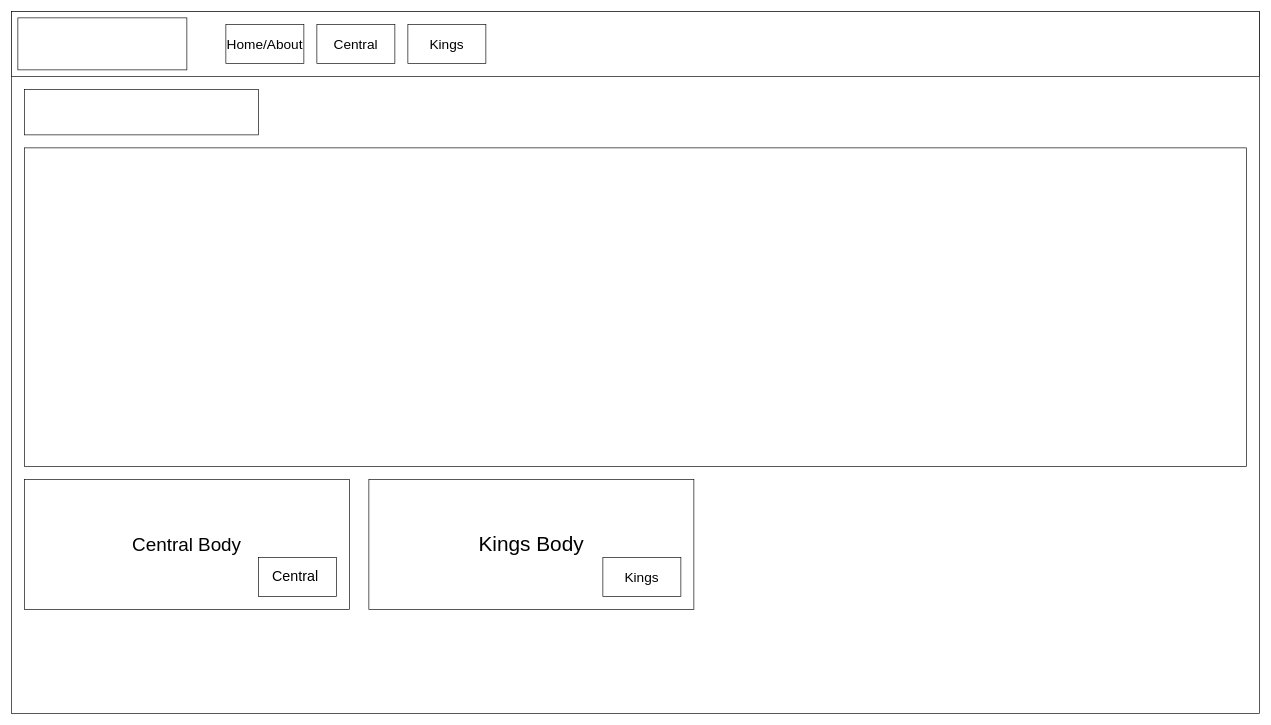
Some shapes in this 1271 by 725 pixel diagram are drawn without their labels. Each missing label, with the box of its shape:
Body: (24, 147, 1246, 466)
Hack The Bean Bin Searcher: (17, 17, 187, 70)
Header: (24, 89, 258, 135)
